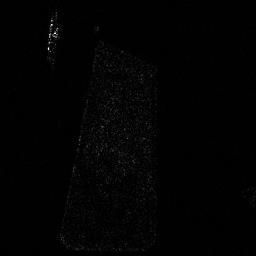ship: (47, 7, 60, 52)
